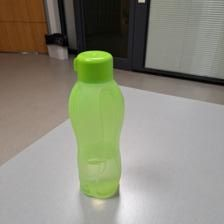bottle: (66, 48, 128, 199)
